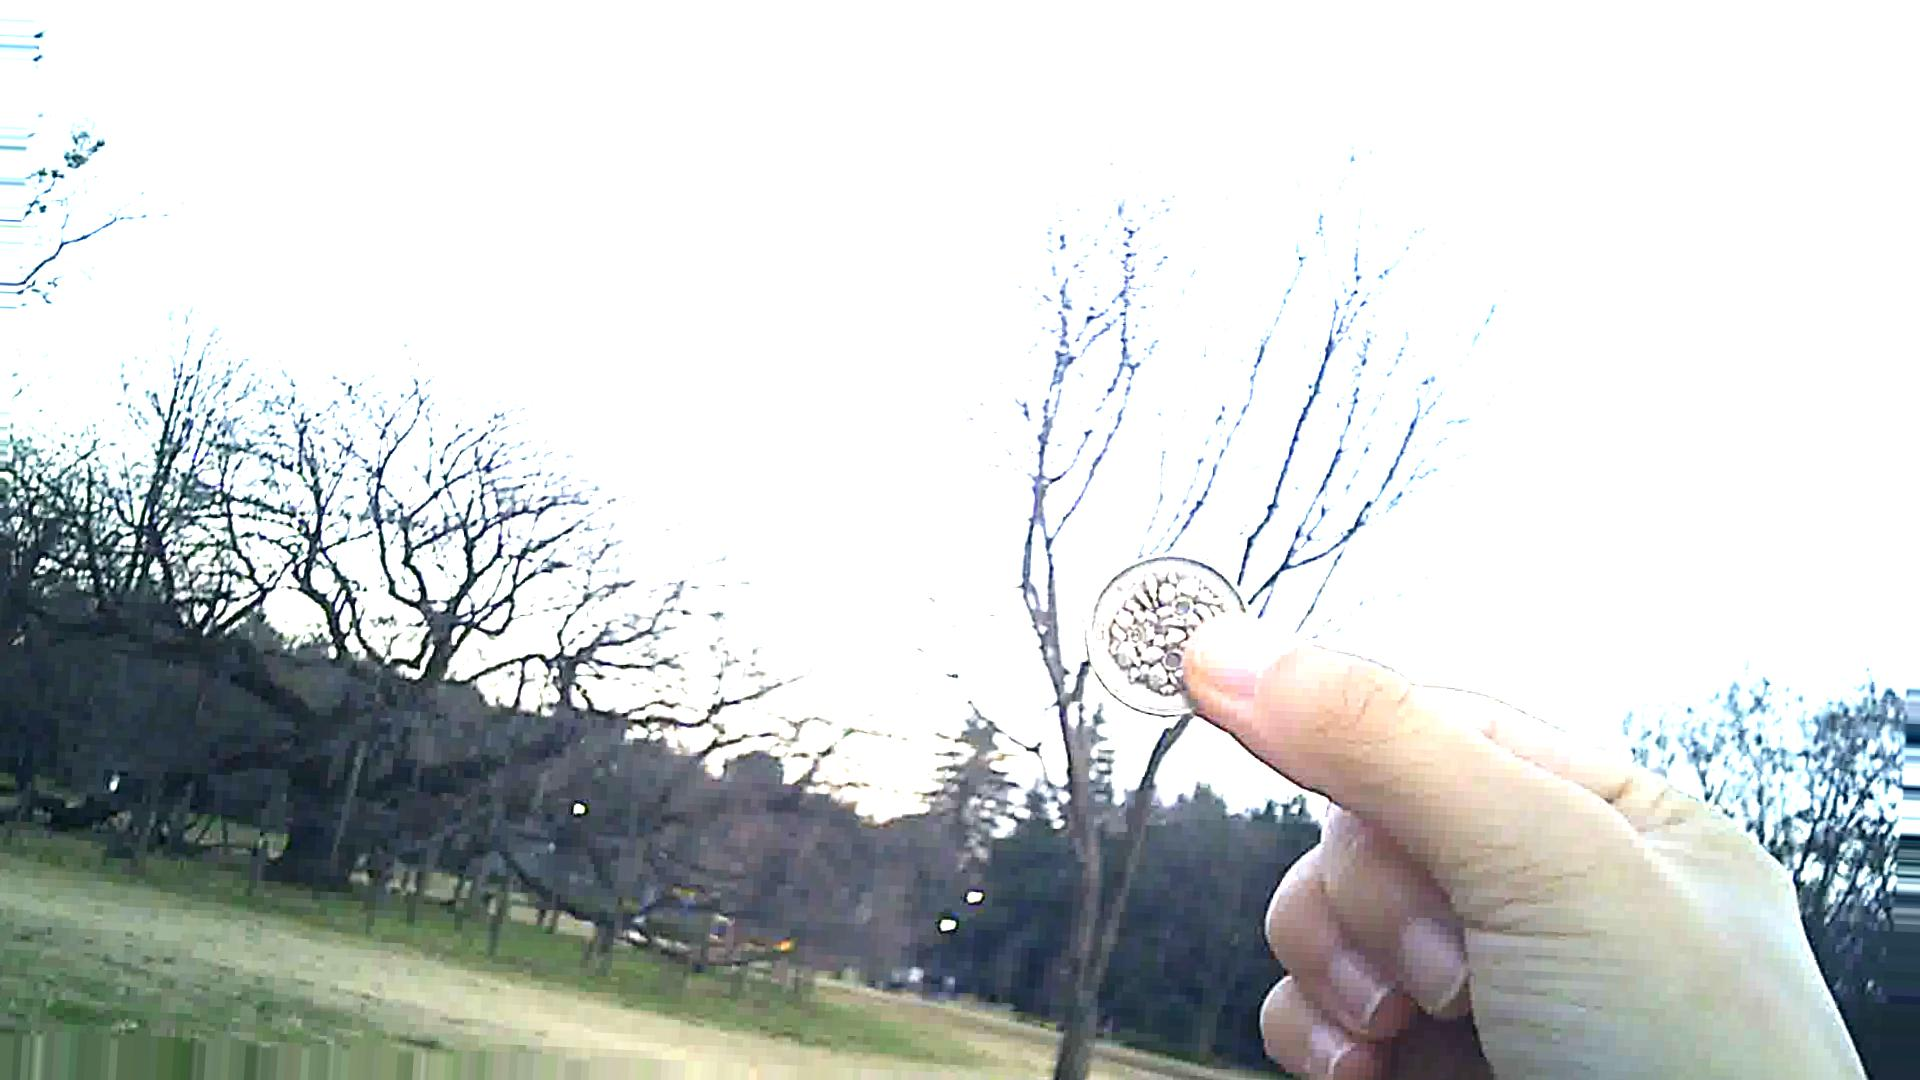100 Yen: (1079, 549, 1255, 721)
